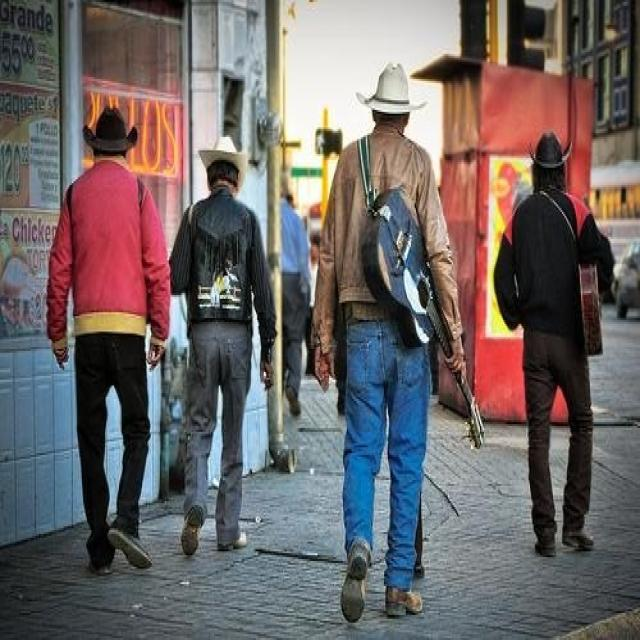guitar: (361, 190, 490, 453), (576, 258, 610, 358)
